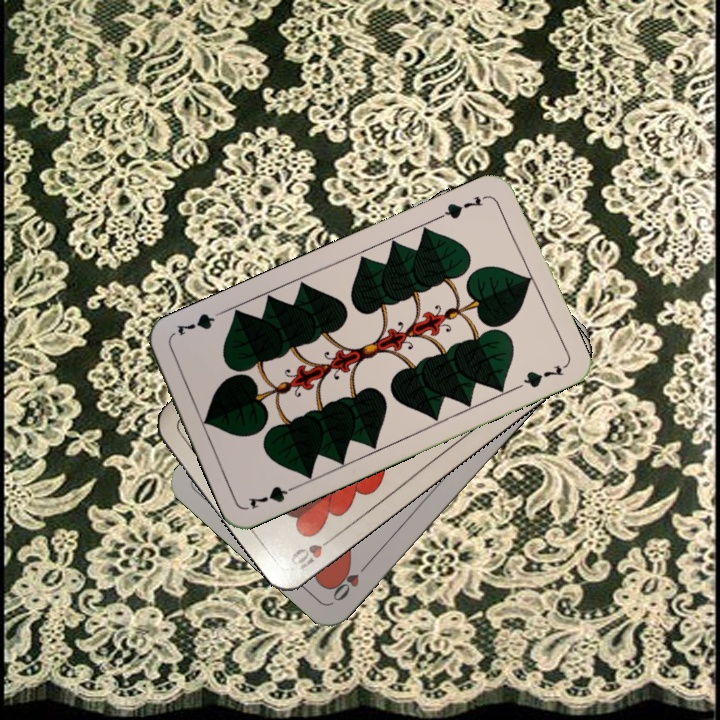G7: (244, 480, 302, 512), (435, 190, 491, 222)
H10: (285, 530, 340, 577)
HO: (327, 557, 373, 605)
